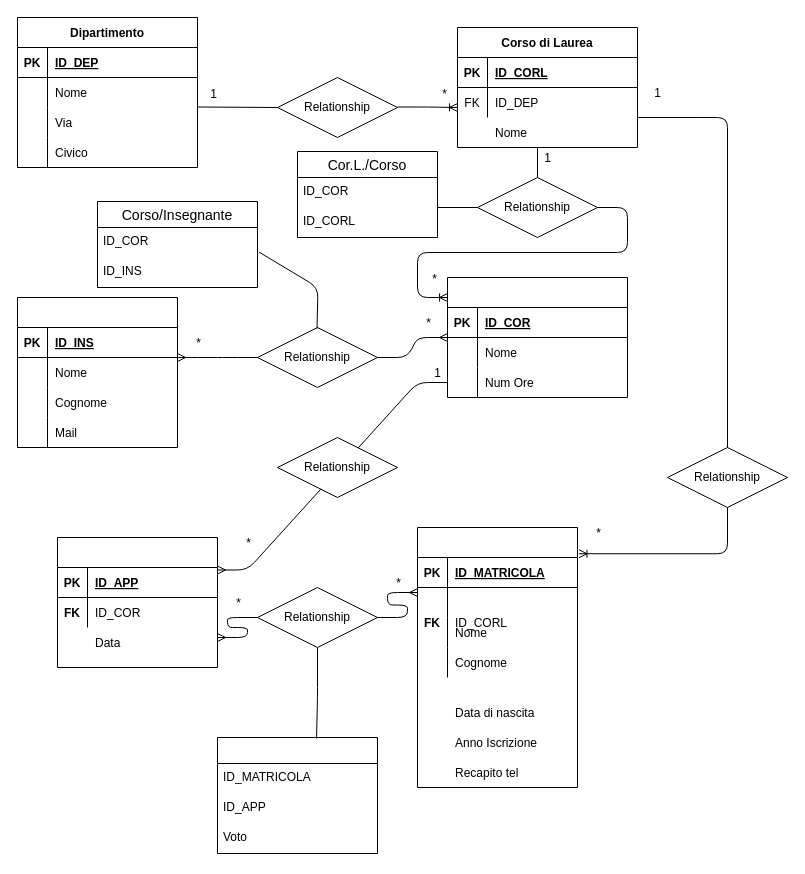
Some shapes in this 805 by 874 pixel diagram are drawn without their labels. Each missing label, with the box of its shape:
Appello: (56, 536, 218, 668)
Corso: (446, 276, 628, 398)
Insegnante: (16, 296, 178, 448)
Stud/Appello: (216, 736, 378, 854)
Studente: (416, 526, 578, 788)
